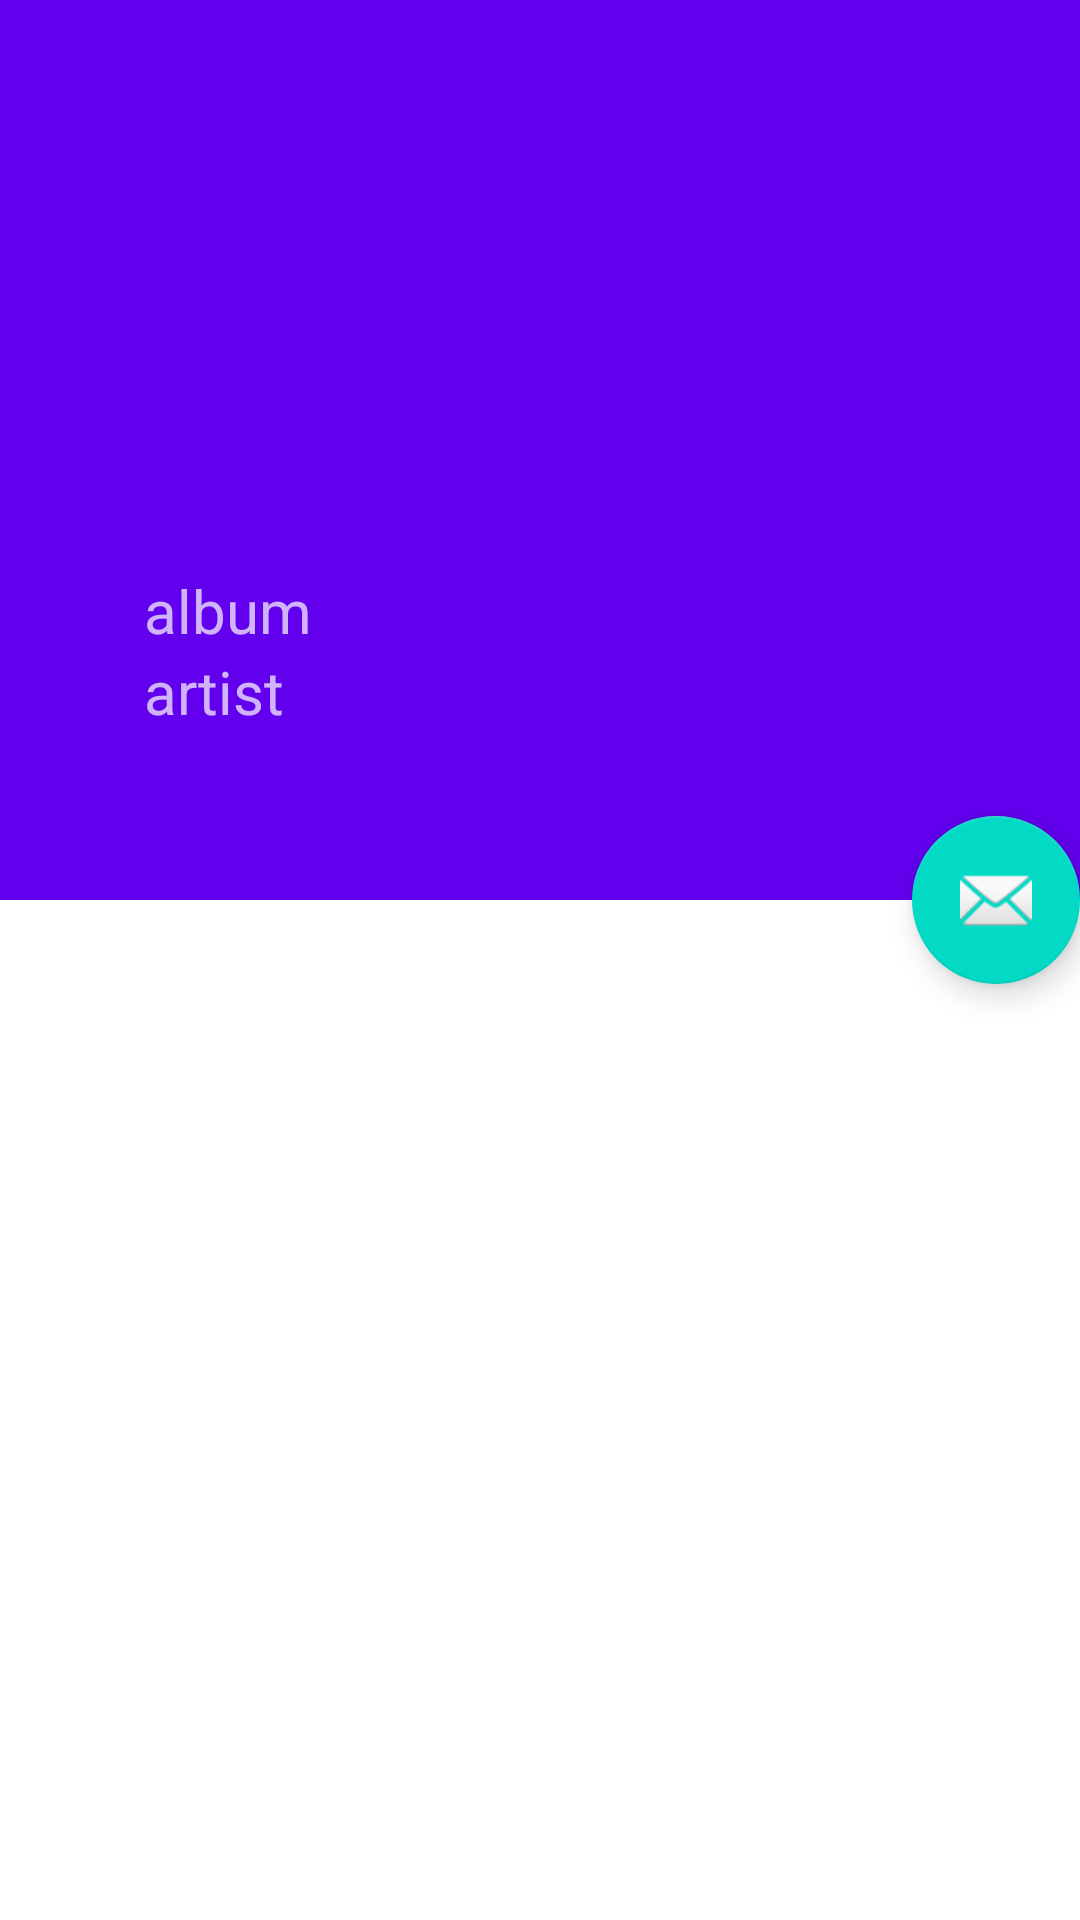

Point at icon controls on the screen. Image size 1080x1920, points as (x,y).
email: (996,900)
